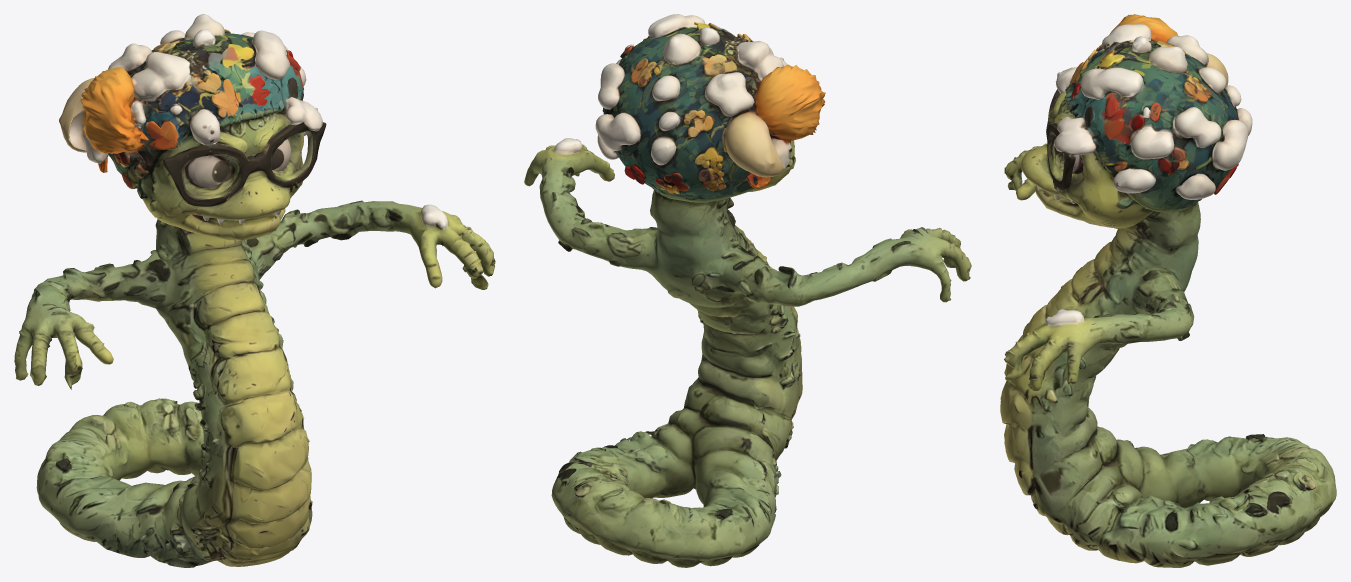
The model's file is old_lady_bathwater.glb.
The picture shows the model from 3 angles, left to right: view 1: azimuth 30°, elevation 25°; view 2: azimuth 150°, elevation 25°; view 3: azimuth 270°, elevation 25°; orthographic projection. The views are drawn at different scales.
Visible parts, largest first — view 1: old_lady_bathwater; view 2: old_lady_bathwater; view 3: old_lady_bathwater.
Part boxes in pixels (x1,y1,x2,y2): old_lady_bathwater: (14,14,495,567); old_lady_bathwater: (524,14,971,567); old_lady_bathwater: (1000,14,1336,567).
Bounding box in the file's own units: 3.18 × 3.4 × 2.1.
Materials: 1 (1 with a texture image).
